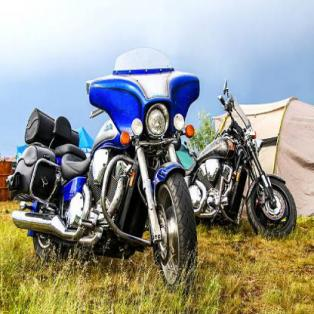Motocicleta: (7, 47, 204, 289), (189, 78, 305, 238)
